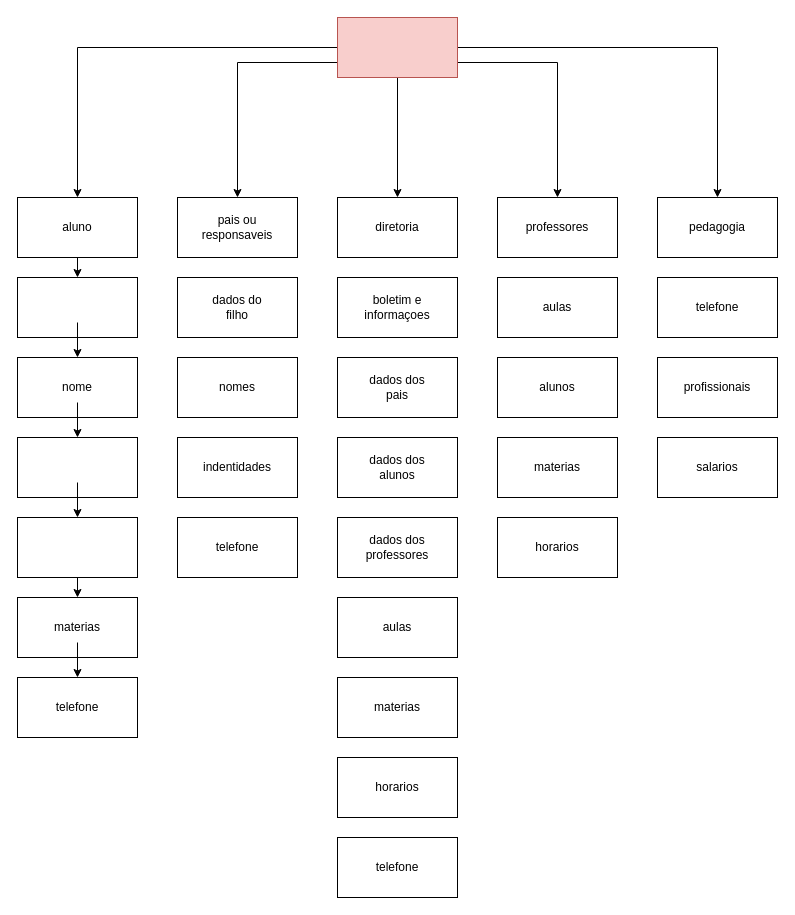
The diagram is 795 pixels wide and 915 high, and some of its shapes have lost their labels. Each missing label, with the box of its shape:
conjunto de dados: (16, 276, 138, 338)
cpf: (16, 436, 138, 498)
idade: (16, 516, 138, 578)
sistema escolar: (336, 16, 458, 78)
